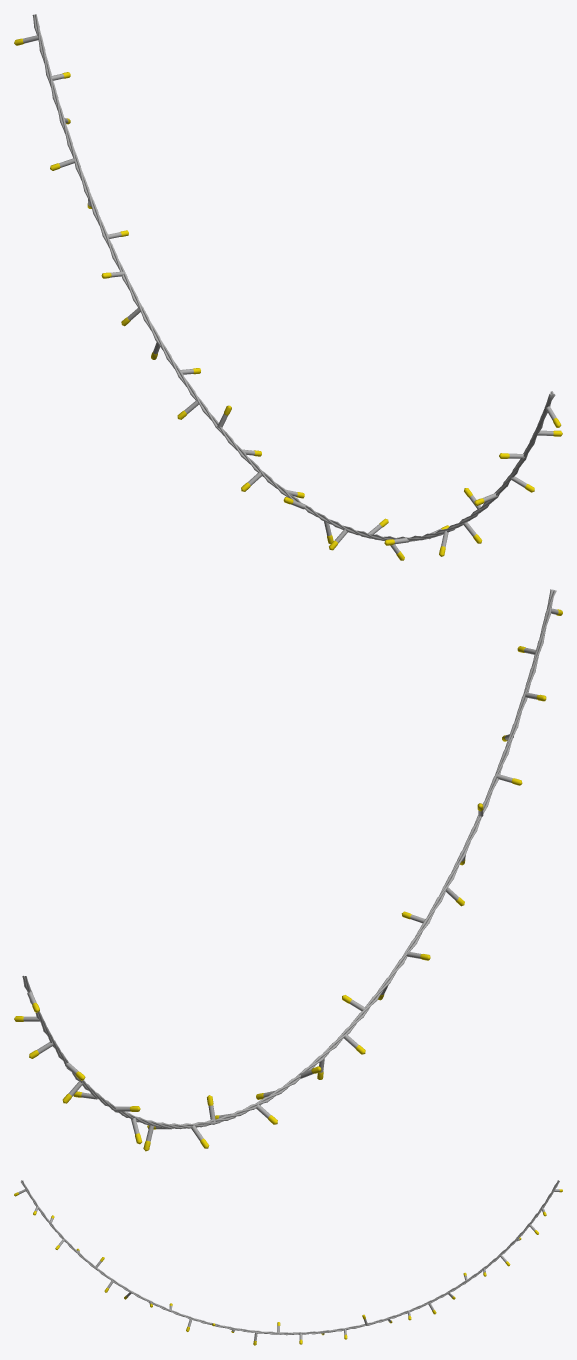
Rendered from fairylights_02.fbx.
The picture shows the model from 3 angles, top to bottom: view 1: azimuth 30°, elevation 25°; view 2: azimuth 150°, elevation 25°; view 3: azimuth 270°, elevation 25°; orthographic projection. The views are drawn at different scales.
Parts seen in each view (by area): view 1: fairylights2_light1; view 2: fairylights2_light1; view 3: fairylights2_light1.
Boxes of the visible parts, x1=… form: fairylights2_light1: x1=14, y1=14, x2=562, y2=560; fairylights2_light1: x1=14, y1=589, x2=562, y2=1151; fairylights2_light1: x1=14, y1=1180, x2=562, y2=1345.
Size of the model in its own units: 0.2543 by 1.63 by 4.92.
